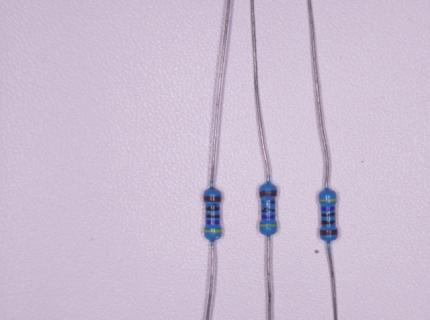Violet band: (321, 206, 335, 211), (261, 215, 275, 219), (206, 220, 220, 224)
Yellow band: (204, 229, 222, 233), (260, 223, 277, 227), (319, 199, 337, 202)
